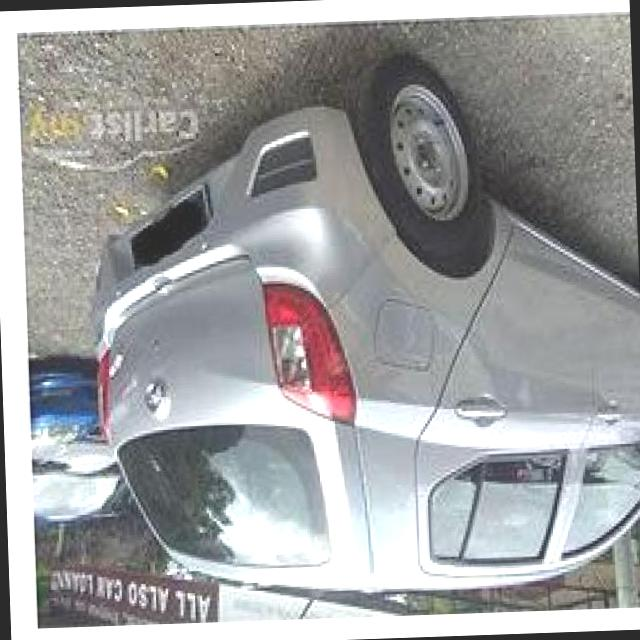PeroduaAxia: (80, 48, 640, 607)
